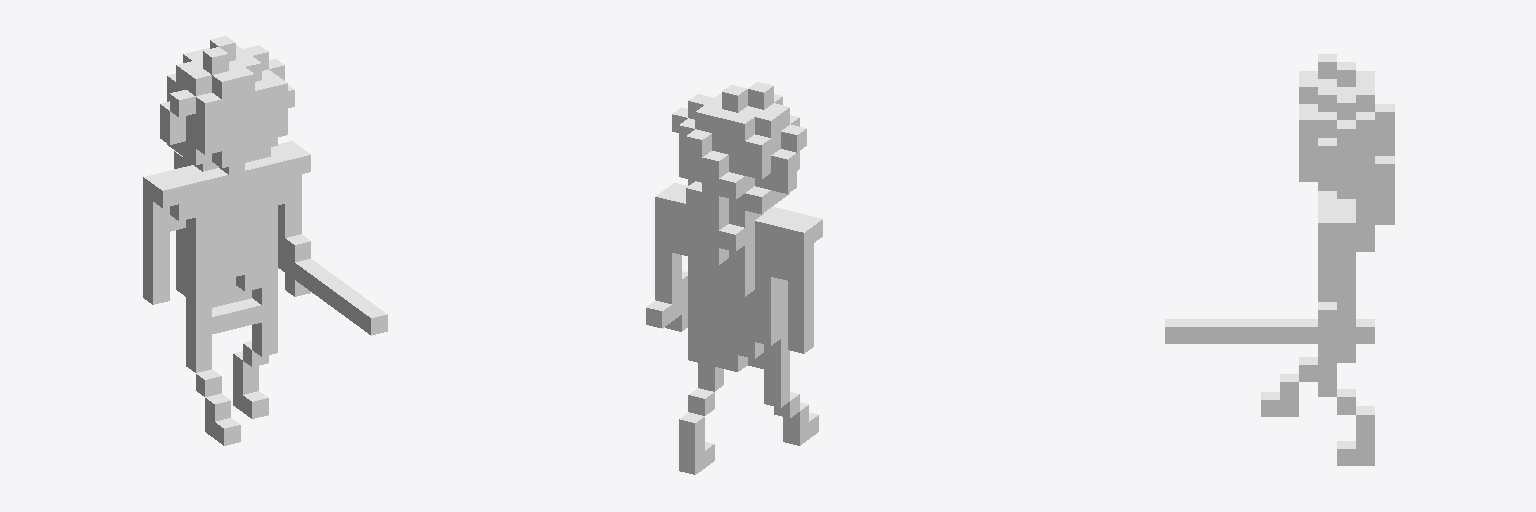
File: SpinningGirlCharacter-4.obj
The picture shows the model from 3 angles: view 1: azimuth 30°, elevation 25°; view 2: azimuth 150°, elevation 25°; view 3: azimuth 270°, elevation 25°; orthographic projection.
Parts seen in each view (by area): view 1: SpinningGirlCharacter-4; view 2: SpinningGirlCharacter-4; view 3: SpinningGirlCharacter-4.
Part boxes in pixels (x1,y1,x2,y2): SpinningGirlCharacter-4: (143,36,387,445); SpinningGirlCharacter-4: (646,82,822,474); SpinningGirlCharacter-4: (1165,54,1394,465).
Bounding box in the file's own units: 9 × 22 × 12.